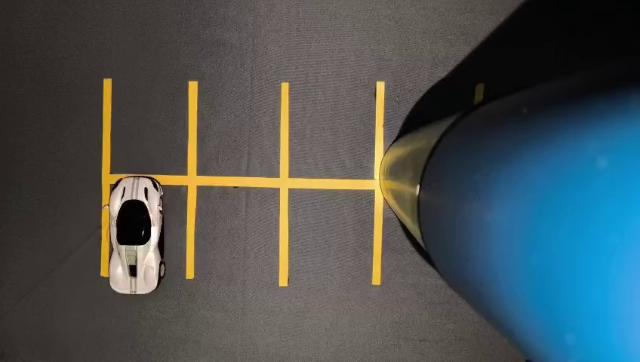toy_car: (86, 142, 219, 319)
